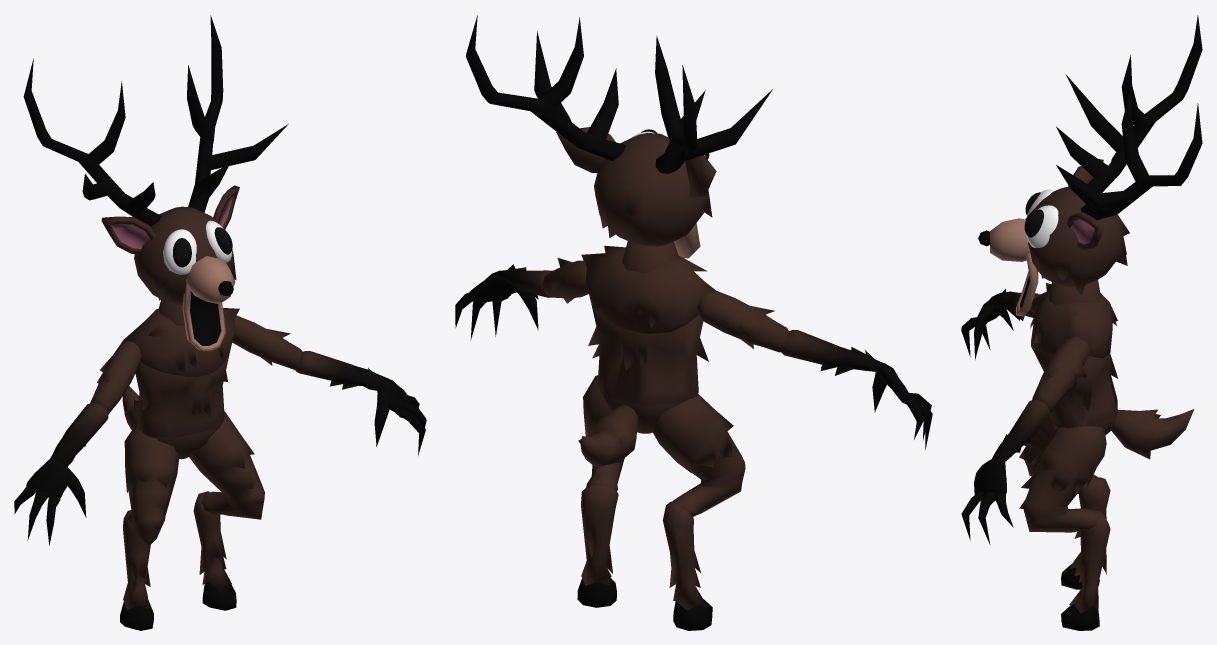
Rendered from deer_99_nights_in_the_forest_roblox.glb.
The picture shows the model from 3 angles, left to right: view 1: azimuth 30°, elevation 25°; view 2: azimuth 150°, elevation 25°; view 3: azimuth 270°, elevation 25°; orthographic projection. The views are drawn at different scales.
Visible parts, largest first — view 1: MidTorso; view 2: MidTorso; view 3: MidTorso.
Boxes of the visible parts, x1,y1,x2,y2 form: MidTorso: (14,15,426,630); MidTorso: (455,15,932,630); MidTorso: (961,15,1202,630).
Size of the model in its own units: 18.5 by 23.36 by 9.35.
Materials: 34 (30 with a texture image).
